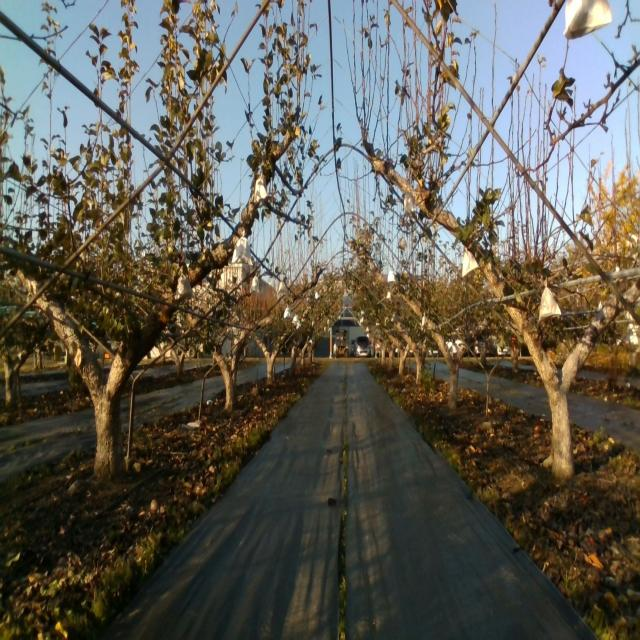pearbags: (538, 281, 562, 320), (232, 235, 254, 266), (174, 270, 194, 300), (462, 248, 479, 278), (252, 176, 270, 203), (404, 194, 415, 219)
